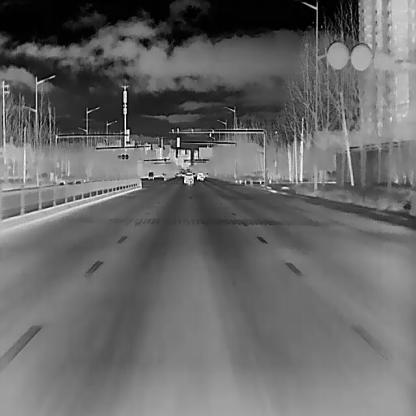car: (183, 171, 193, 183), (196, 171, 204, 180), (148, 171, 154, 179)
